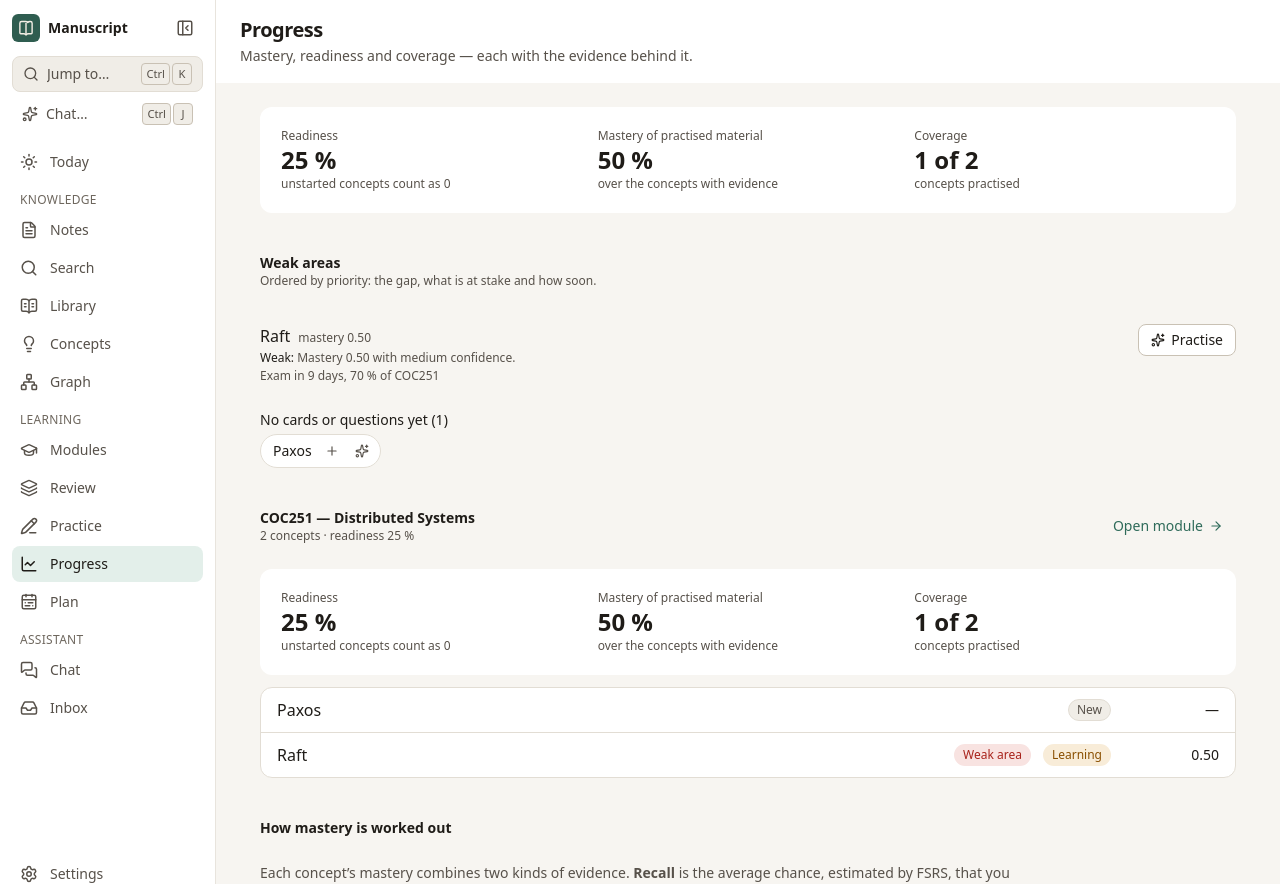
the progress page › shows readiness, weak areas with reasons, and each concept’s evidence
Expected: the heading "Progress" is shown, x1=240 y1=16 x2=323 y2=43
Expected: the 1st text "25 %" is shown, x1=281 y1=143 x2=336 y2=176
Click the text "Raft": (292, 755) x1=277 y1=744 x2=307 y2=766
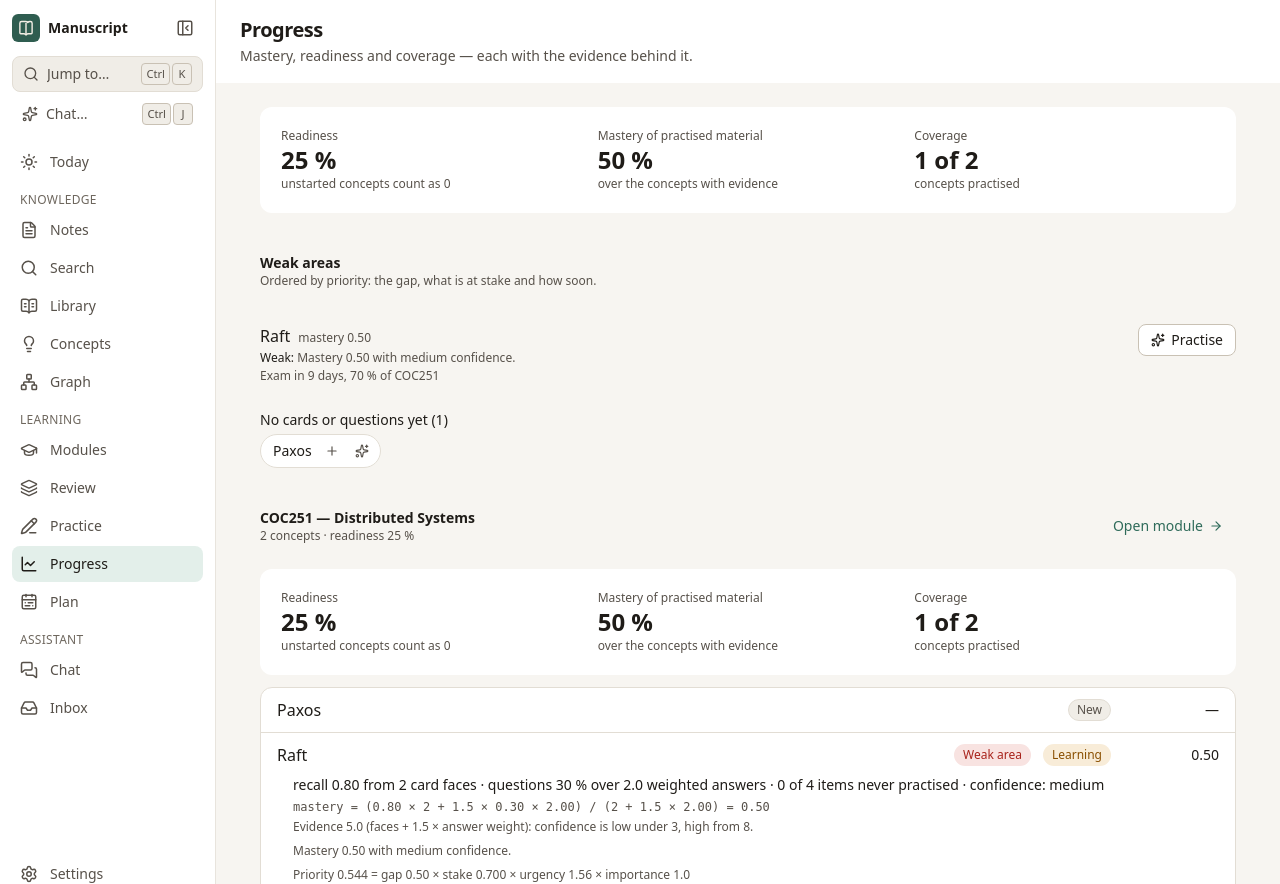
Result: the text "recall 0.80 from 2 card faces" is shown at x1=293 y1=775 x2=1104 y2=794
Result: the text "mastery = (0.80 × 2 + 1.5 × 0.30 × 2.00) / (2 + 1.5 × 2.00) = 0.50" is shown at x1=293 y1=800 x2=770 y2=814
